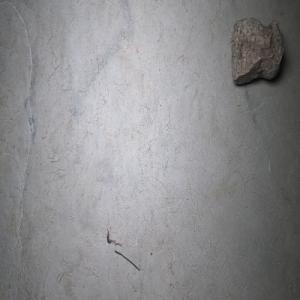Rock: (229, 17, 284, 84)
